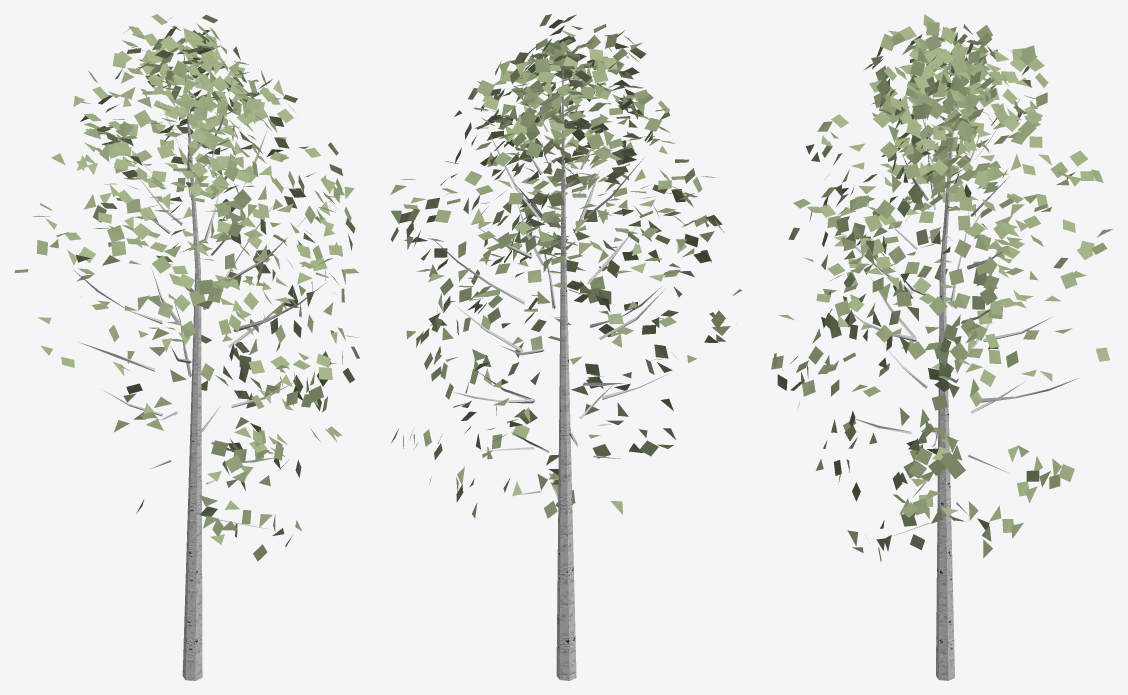
The model's file is tree_birch.glb.
The picture shows the model from 3 angles, left to right: view 1: azimuth 30°, elevation 25°; view 2: azimuth 150°, elevation 25°; view 3: azimuth 270°, elevation 25°; orthographic projection.
Parts seen in each view (by area): view 1: leaves, trunk, branches; view 2: leaves, trunk, branches; view 3: leaves, trunk, branches.
Boxes of the visible parts, bbox=[...] form: leaves: bbox=[14, 14, 359, 561]; trunk: bbox=[182, 45, 202, 680]; branches: bbox=[74, 71, 325, 529]; leaves: bbox=[390, 14, 742, 518]; trunk: bbox=[556, 53, 576, 680]; branches: bbox=[429, 60, 668, 501]; leaves: bbox=[771, 14, 1112, 561]; trunk: bbox=[936, 75, 956, 680]; branches: bbox=[826, 117, 1078, 536].
Bounding box in the file's own units: 3.79 × 7.5 × 3.54.
3 materials, 1 textured.
